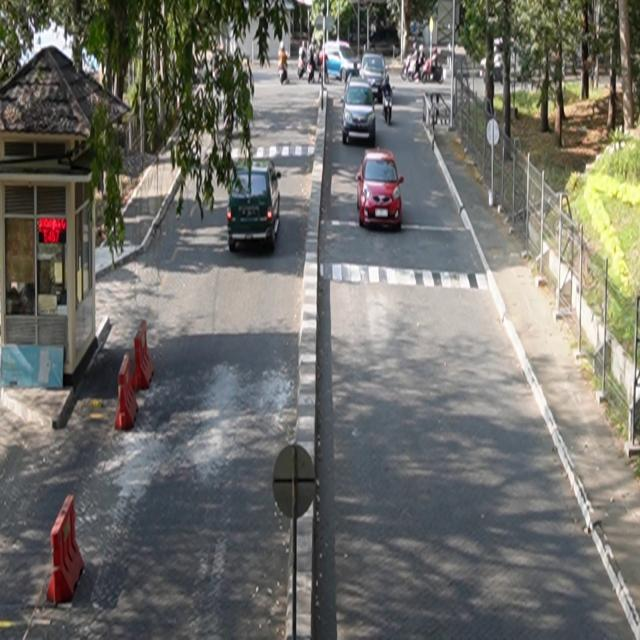car: (228, 158, 283, 254), (357, 148, 405, 231), (342, 80, 377, 146)
